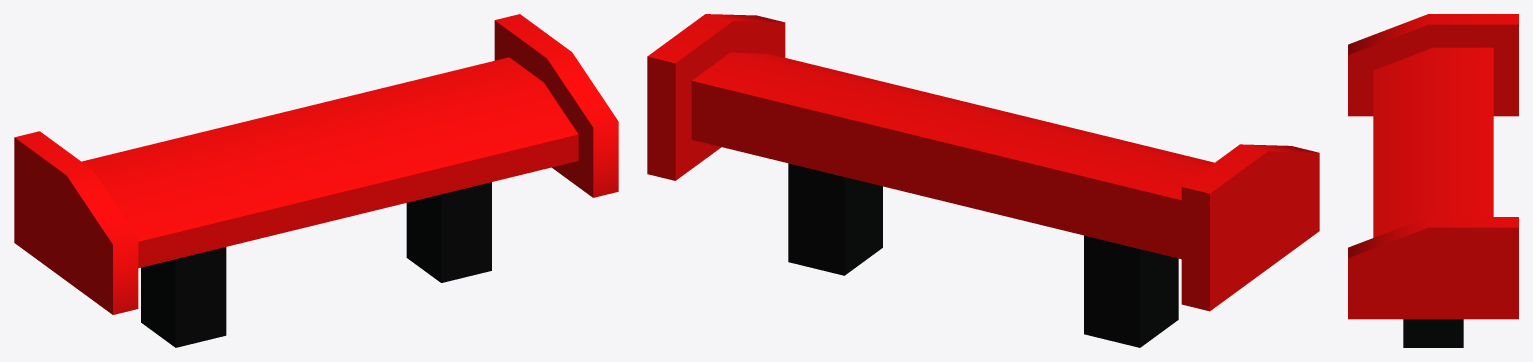
The model's file is debris-spoiler-b.glb.
3 renders of one model, left to right at view 1: azimuth 30°, elevation 25°; view 2: azimuth 150°, elevation 25°; view 3: azimuth 270°, elevation 25°, orthographic. The views are drawn at different scales.
Parts seen in each view (by area): view 1: debris-spoiler-b; view 2: debris-spoiler-b; view 3: debris-spoiler-b.
Boxes of the visible parts, left/top/right/bottom form: debris-spoiler-b: left=14, top=14, right=618, bottom=347; debris-spoiler-b: left=647, top=14, right=1319, bottom=347; debris-spoiler-b: left=1348, top=14, right=1518, bottom=347.
Bounding box in the file's own units: 1 × 0.3498 × 0.3376.
1 material, 1 textured.
